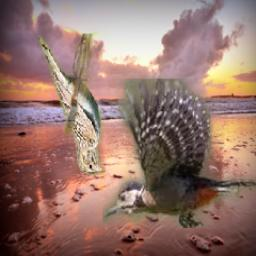Sparrow: (38, 34, 105, 175)
Woodpecker: (102, 80, 256, 229)
